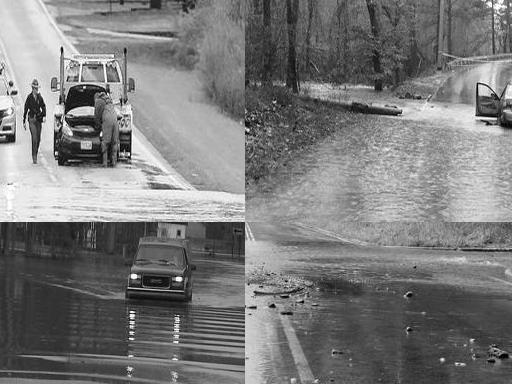road_waterlogging: (245, 230, 512, 384), (0, 305, 245, 384), (0, 231, 106, 292), (206, 248, 245, 291)
